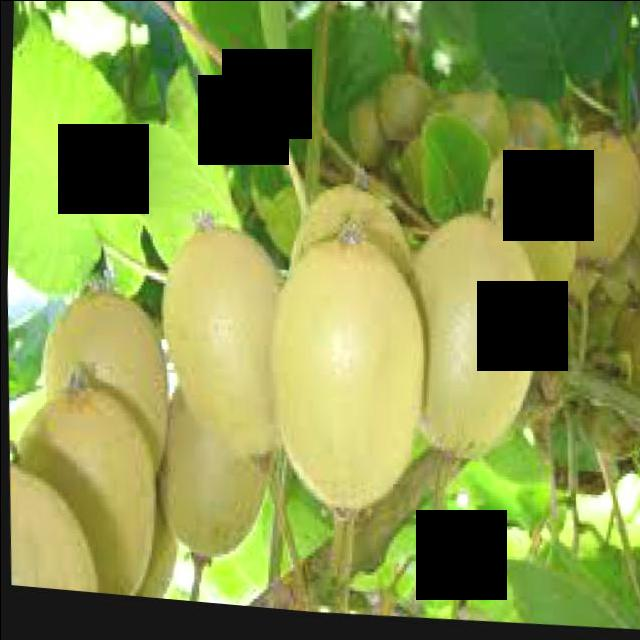kiwi: (270, 239, 433, 529), (404, 211, 548, 473), (157, 229, 293, 476), (14, 395, 165, 608), (41, 301, 171, 519), (288, 191, 414, 398), (161, 392, 271, 574), (478, 149, 586, 324), (555, 132, 640, 283), (9, 472, 103, 603)
